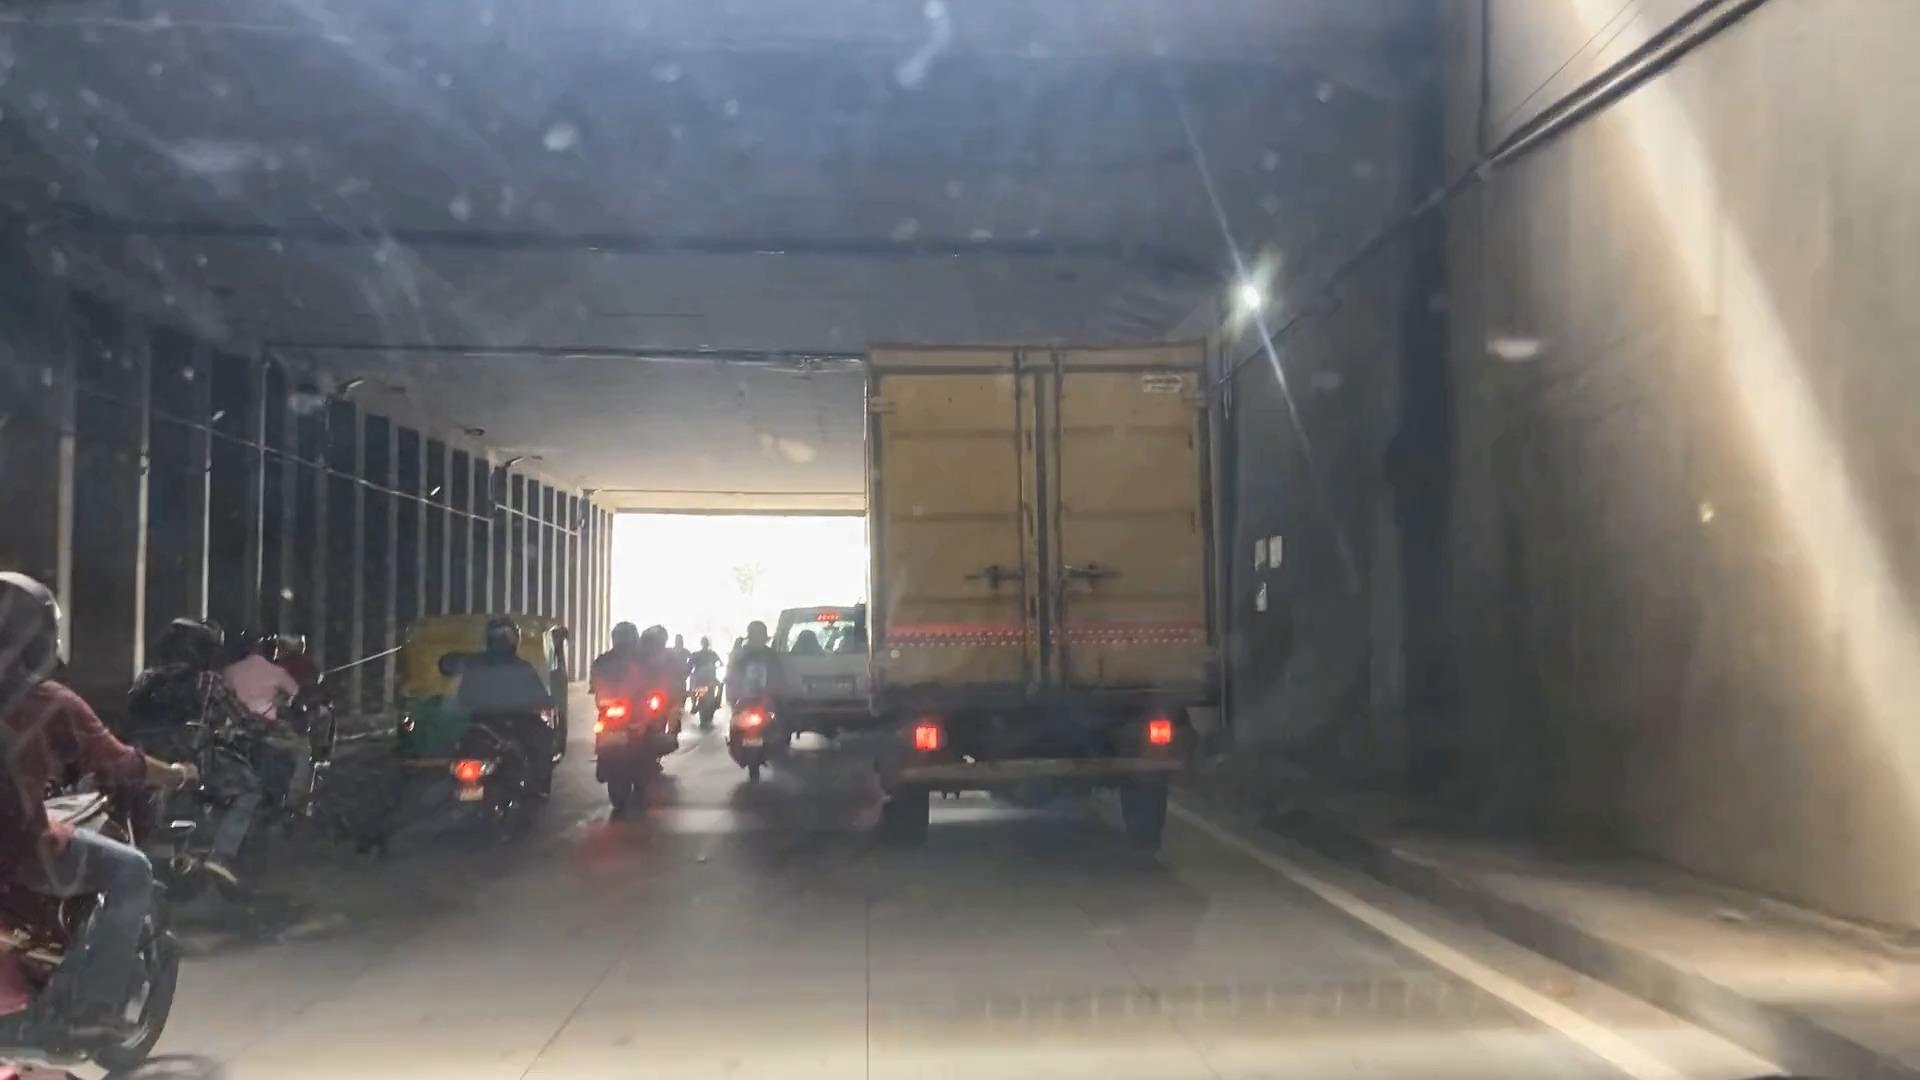HMV: (863, 353, 1227, 856)
LMV: (447, 627, 556, 852), (600, 603, 665, 824)
